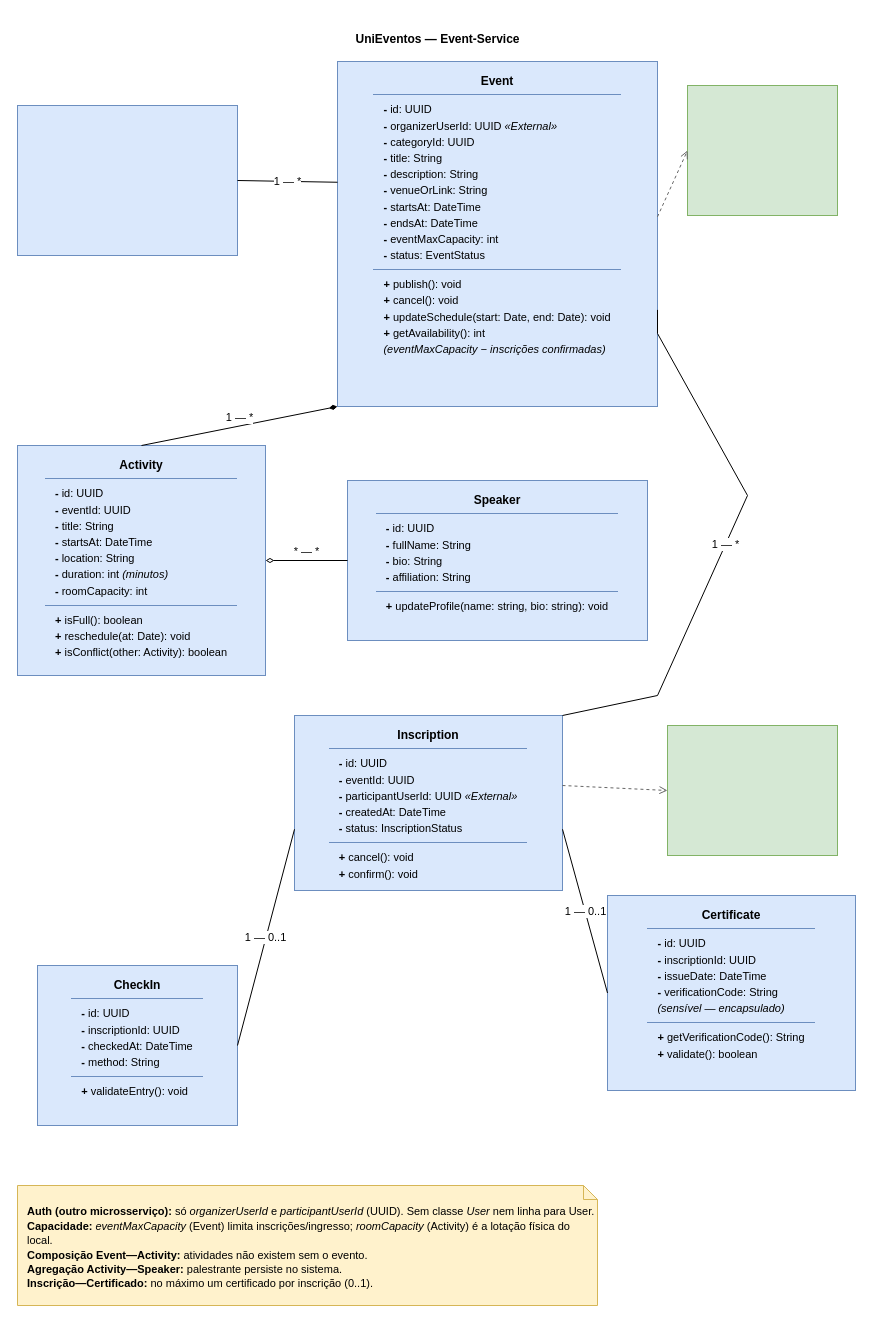
Image size: 873x1323. Some labels were removed from this diagram. The centre of each missing label's shape, as x and y in pixels:
"Category - id: UUID - name: String - slug: String + rename(name: string): void" goes at [127,180].
"«enumeration» EventStatus DRAFT PUBLISHED CANCELLED COMPLETED" goes at [762,150].
"«enumeration» InscriptionStatus PENDING CONFIRMED CANCELLED WAITLIST" goes at [752,790].
